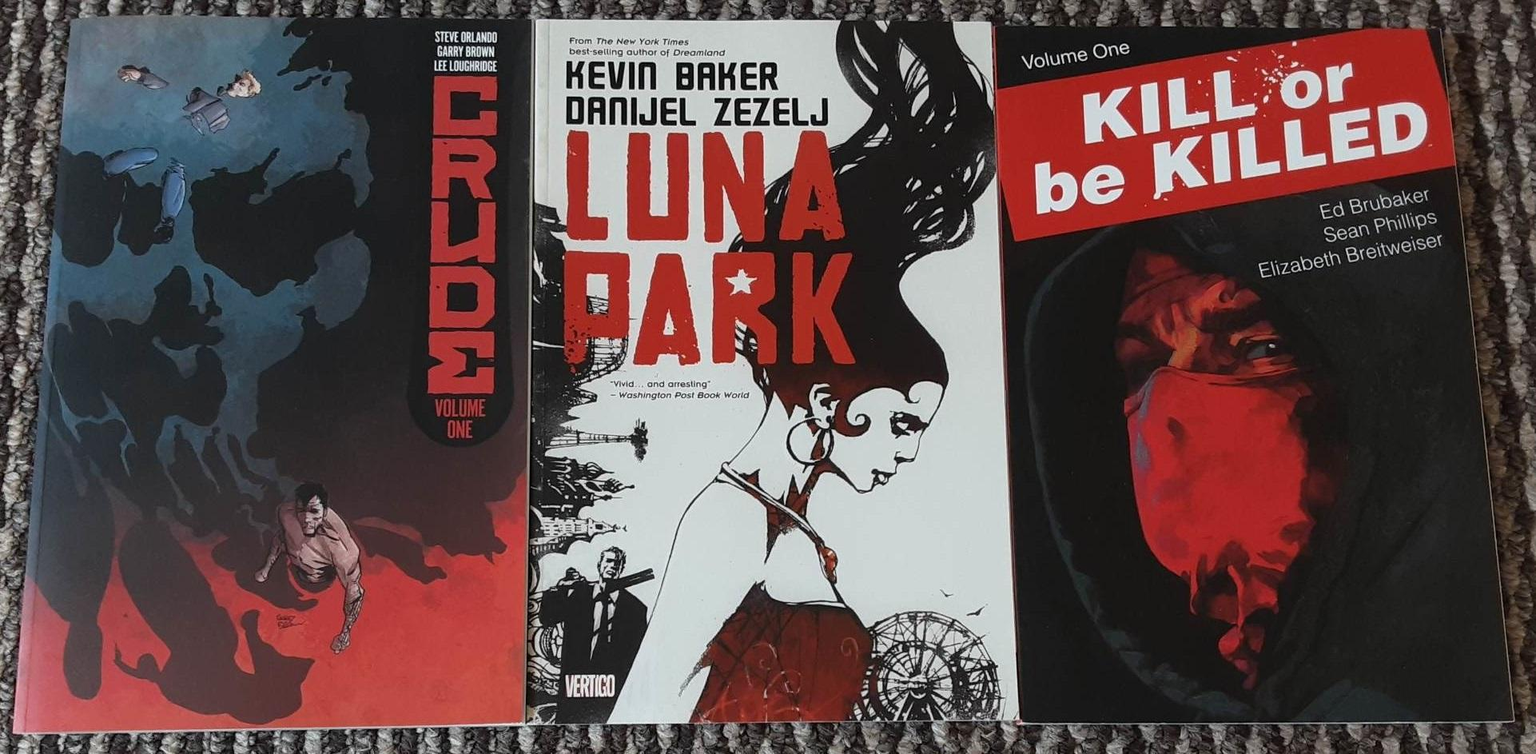comic: (994, 10, 1511, 738), (15, 14, 534, 739), (528, 21, 1017, 722)
